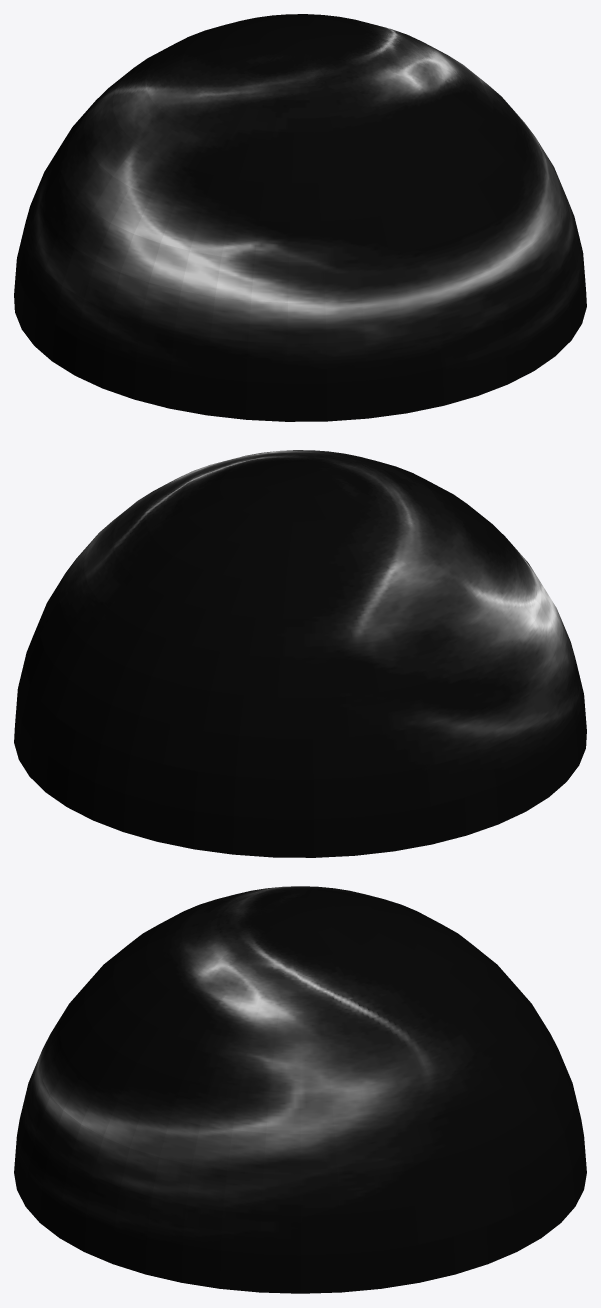
The model's file is 0215_banyuanquanquan.glb.
The picture shows the model from 3 angles, top to bottom: view 1: azimuth 30°, elevation 25°; view 2: azimuth 150°, elevation 25°; view 3: azimuth 270°, elevation 25°; orthographic projection.
Size of the model in its own units: 2.2 by 1.1 by 2.2.
Materials: 1 (1 with a texture image).
